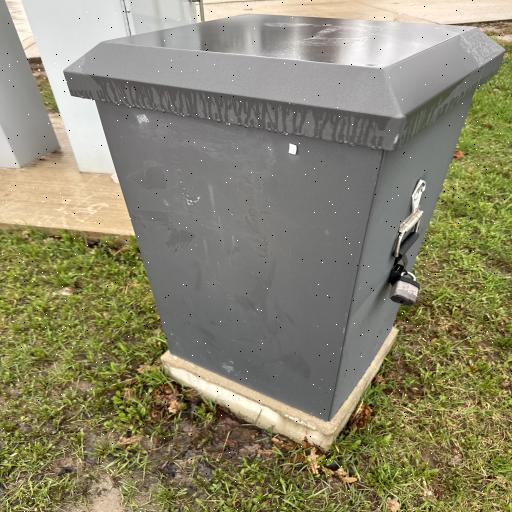Electrical Box: (62, 12, 507, 426)
